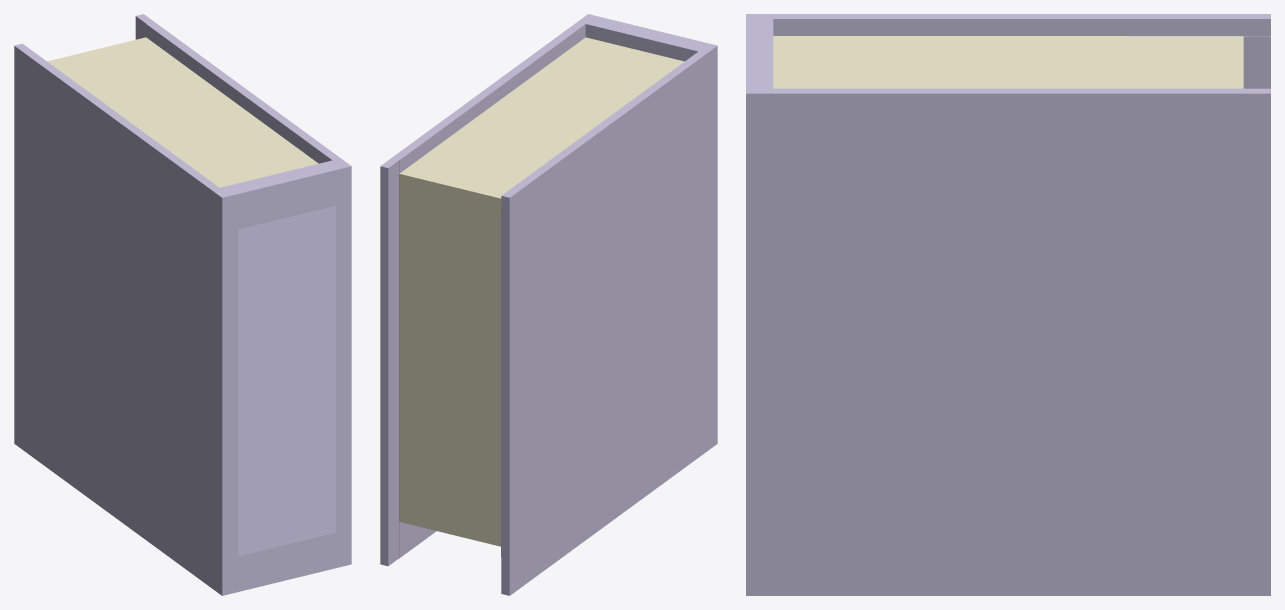
File: book_6.fbx
3 renders of one model, left to right at view 1: azimuth 30°, elevation 25°; view 2: azimuth 150°, elevation 25°; view 3: azimuth 270°, elevation 25°, orthographic. The views are drawn at different scales.
Visible parts, largest first — view 1: Boole_1; view 2: Boole_1; view 3: Boole_1.
Boxes of the visible parts, x1,y1,x2,y2 form: Boole_1: (14,14,351,595); Boole_1: (380,14,717,595); Boole_1: (746,14,1270,595).
Bounding box in the file's own units: 3.16 × 9.27 × 8.78.
